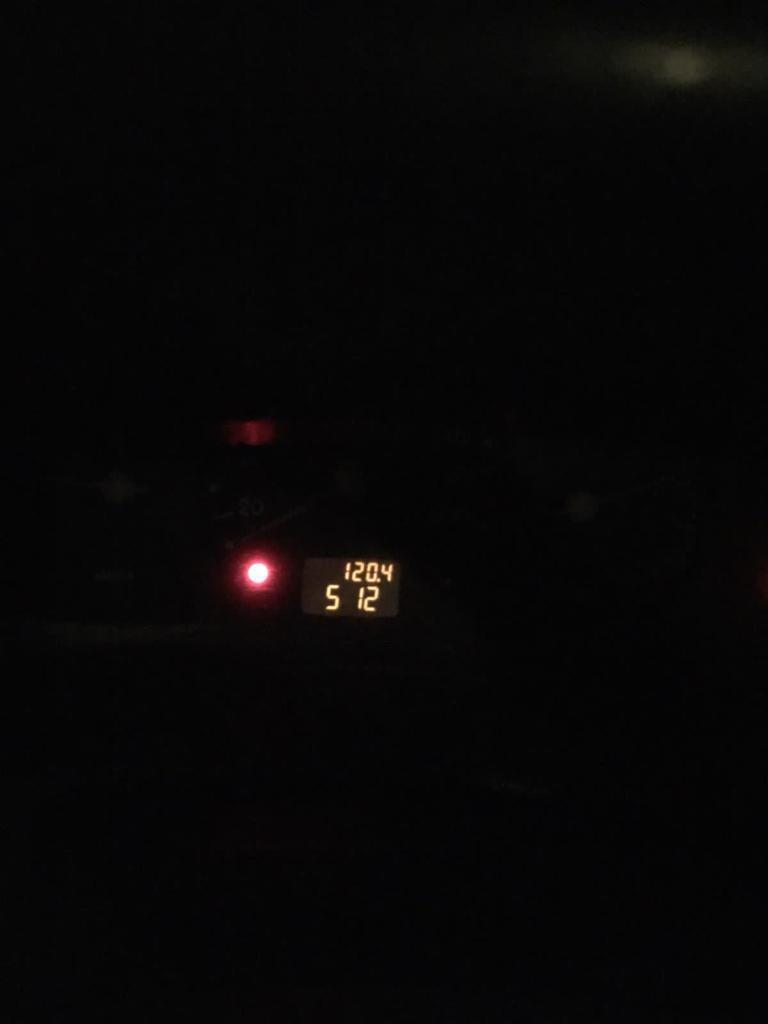,: (376, 577, 382, 583)
0: (365, 561, 378, 583)
1: (357, 585, 363, 613), (344, 561, 350, 581)
2: (365, 585, 379, 613), (352, 560, 363, 582)
4: (380, 562, 395, 582)
5: (325, 583, 342, 612)
odometer: (298, 551, 406, 619)
